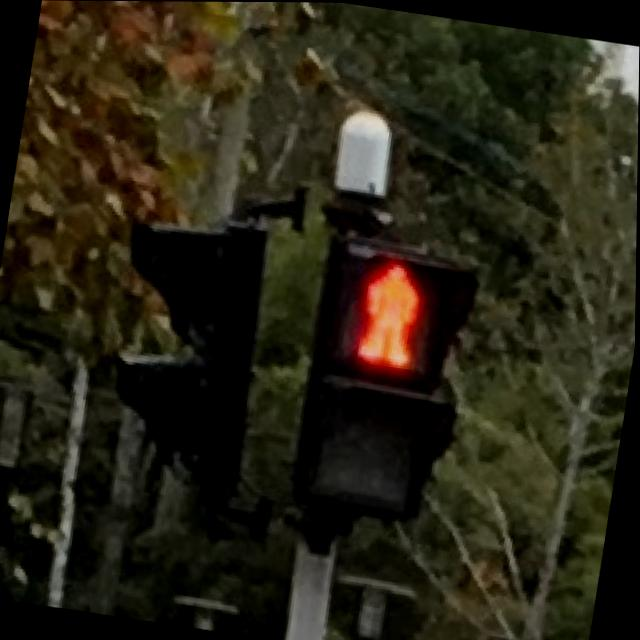red_light: (340, 245, 444, 374)
